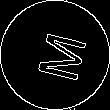M_W: (25, 26, 85, 84)
